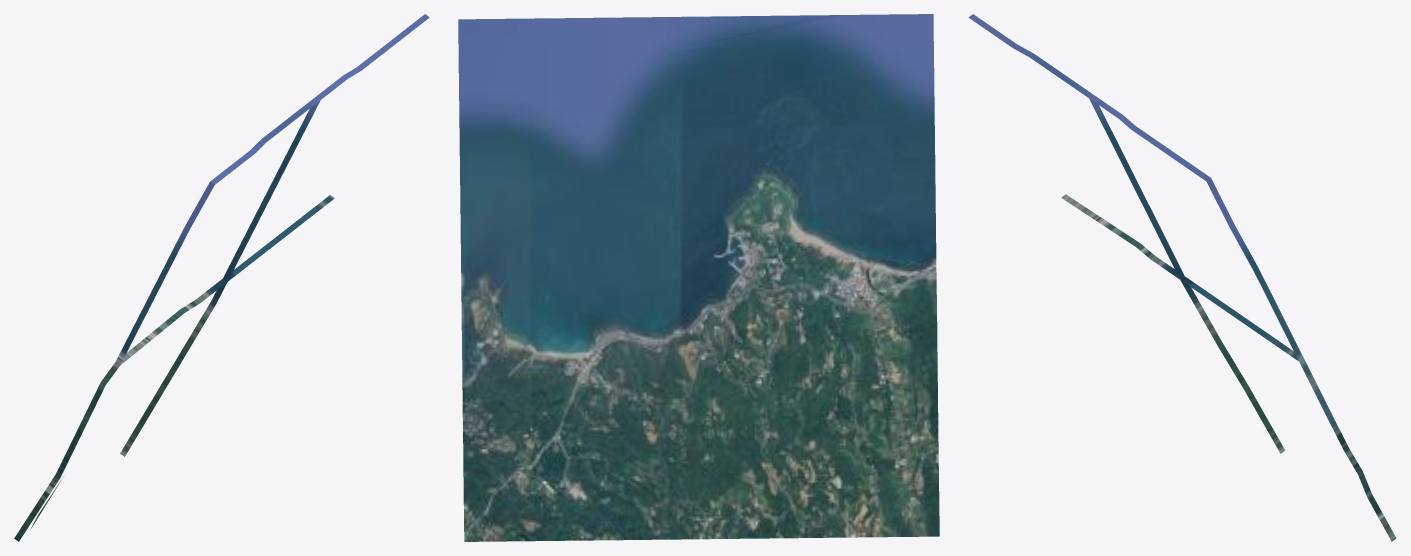
The picture shows the model from 3 angles, left to right: view 1: azimuth 30°, elevation 25°; view 2: azimuth 150°, elevation 25°; view 3: azimuth 270°, elevation 25°; orthographic projection. The views are drawn at different scales.
Bounding box in the file's own units: 4954 × 4426 × 4171.
Materials: 1 (1 with a texture image).
